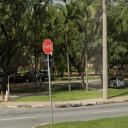Pare: (43, 39, 53, 54)
